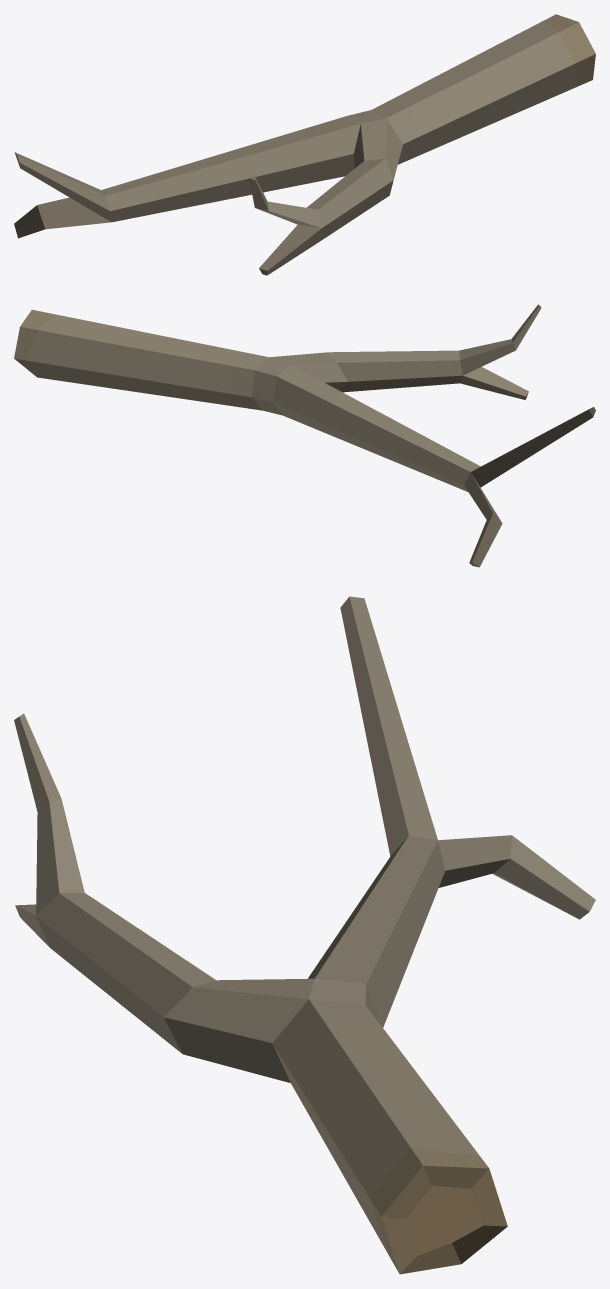
File: AshClutter_002.fbx
3 renders of one model, top to bottom at view 1: azimuth 30°, elevation 25°; view 2: azimuth 150°, elevation 25°; view 3: azimuth 270°, elevation 25°, orthographic. The views are drawn at different scales.
Visible parts, largest first — view 1: AshClutter.002; view 2: AshClutter.002; view 3: AshClutter.002.
Part boxes in pixels (x1,y1,x2,y2): AshClutter.002: (14,14,595,275); AshClutter.002: (14,304,595,567); AshClutter.002: (14,596,595,1274).
Size of the model in its own units: 5.42 by 1.33 by 2.51.
